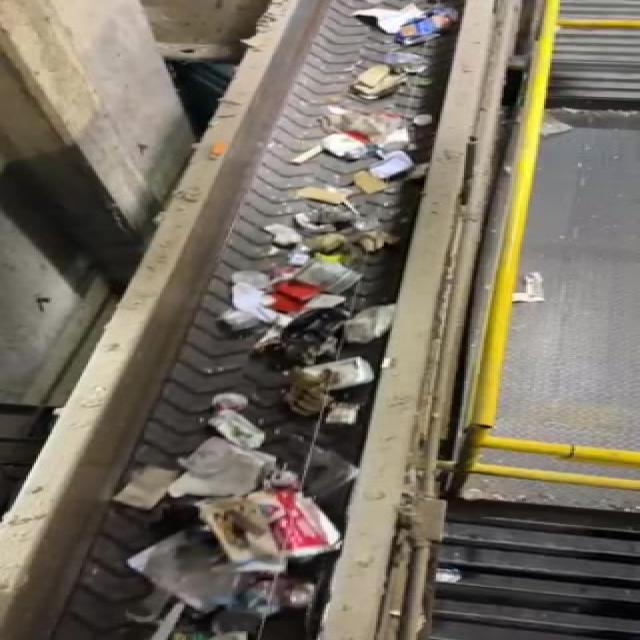ps: (190, 484, 348, 570)
